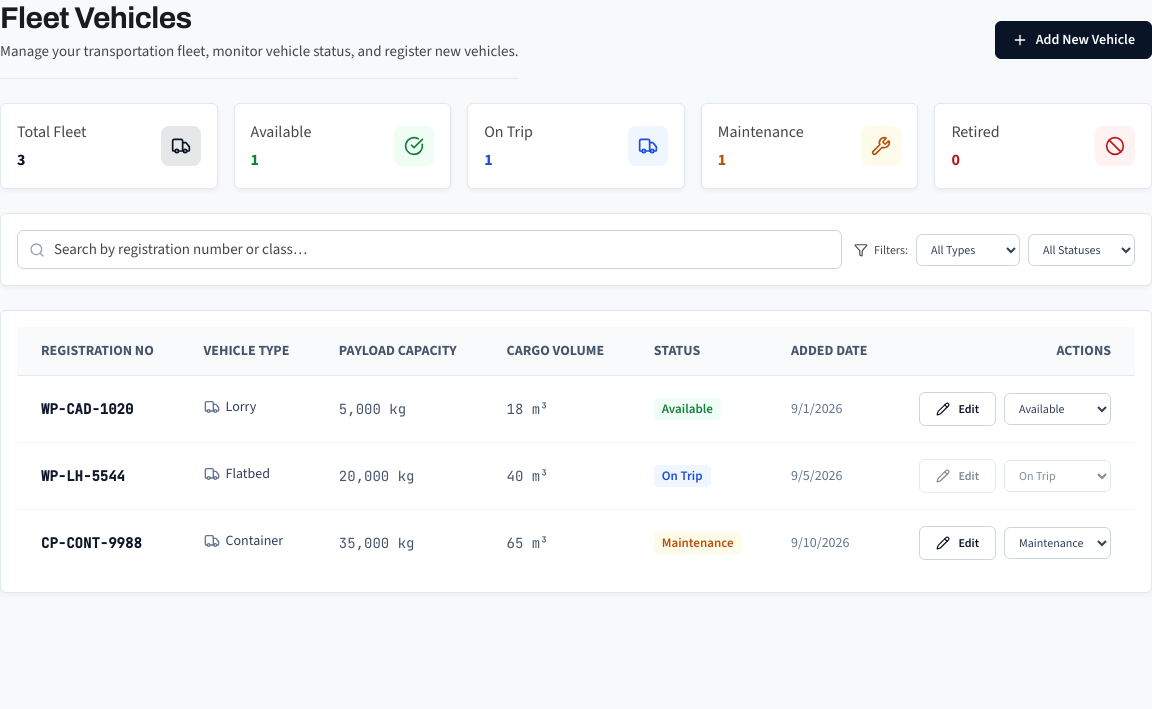
Scenario: FleetVehiclesPage › displays top-level alert banner when backend throws non-validation error
Click the button "Add New Vehicle" at (1073, 40), box [995,20,1151,58]
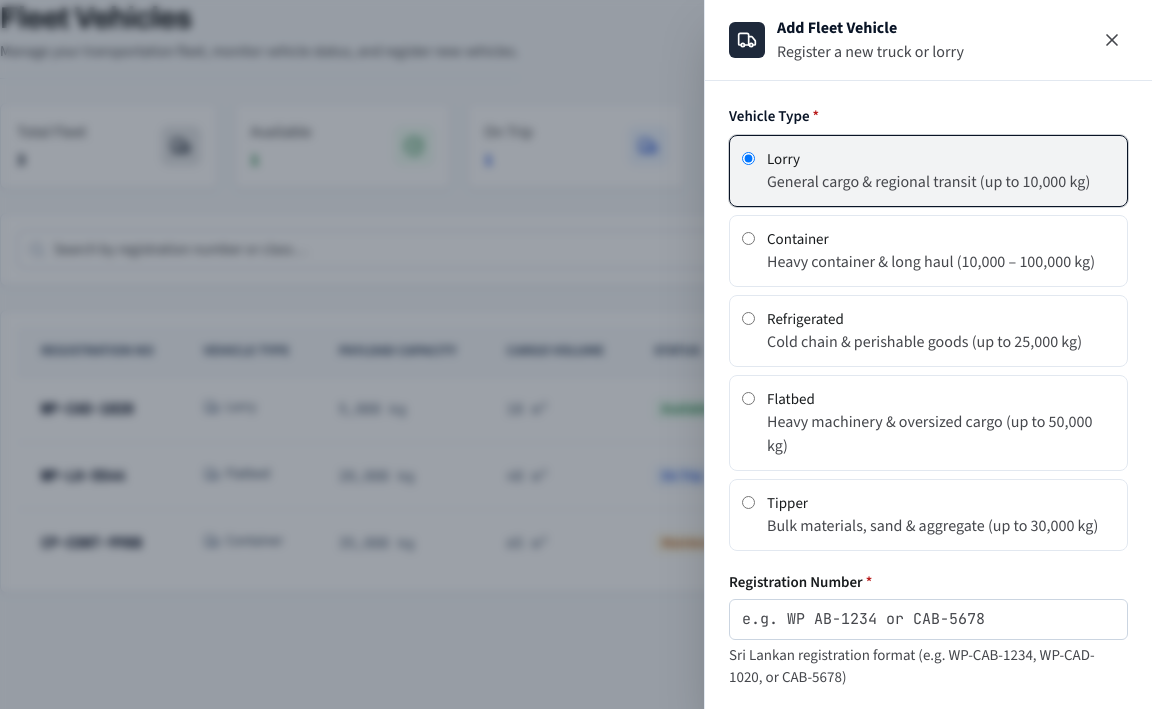
Type "WP-NEW-1122" into the field with placeholder "e.g. WP AB-1234 or CAB-5678" at (928, 619), box [729,599,1128,640]
(page scrolled)
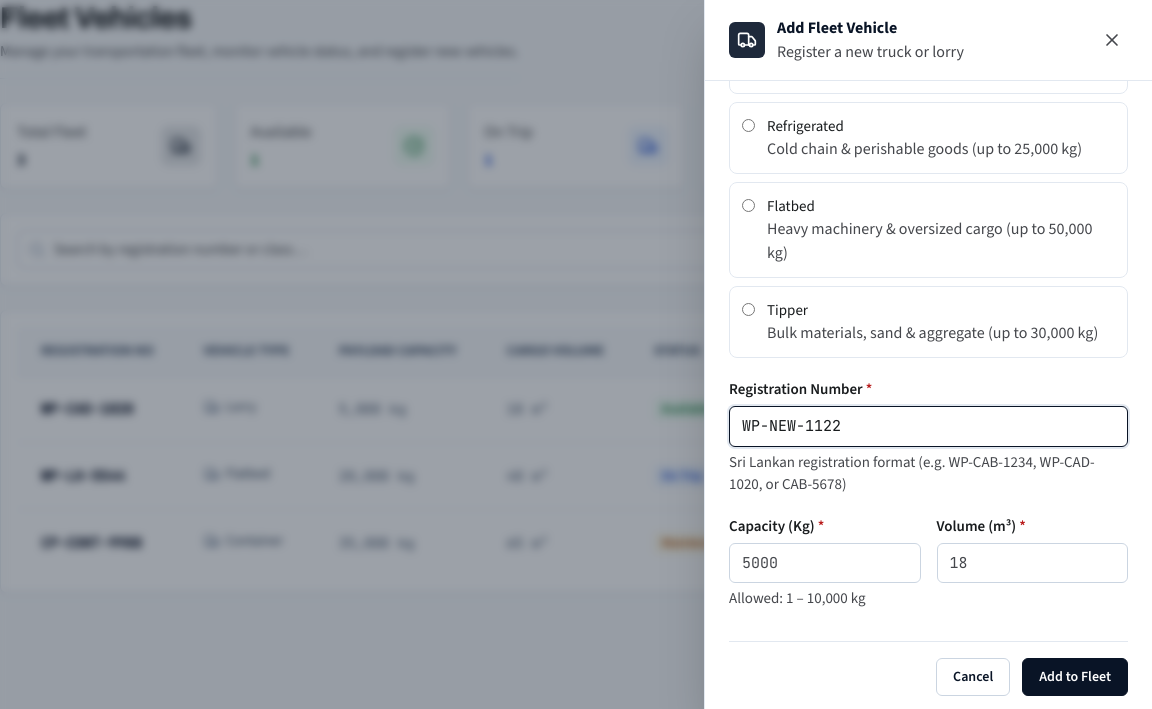
Type "2000" into the number field with placeholder "5000" at (825, 563), box [729,542,920,583]
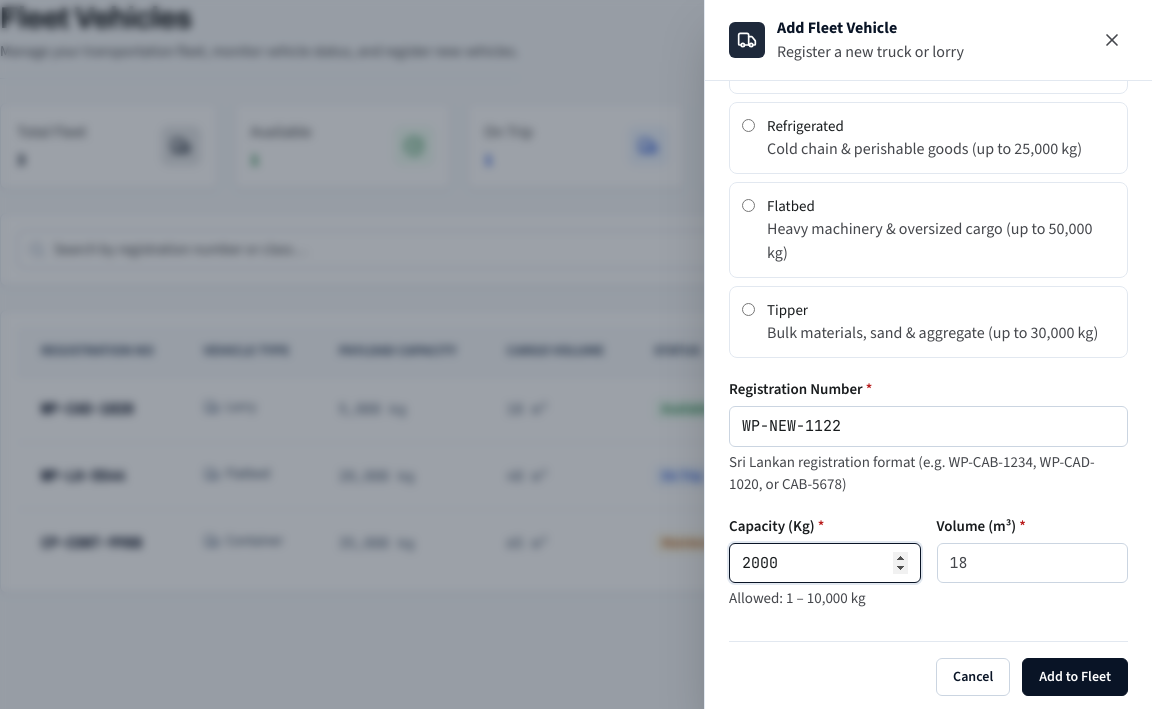
Type "12" into the number field with placeholder "18" at (1032, 563), box [936,542,1128,583]
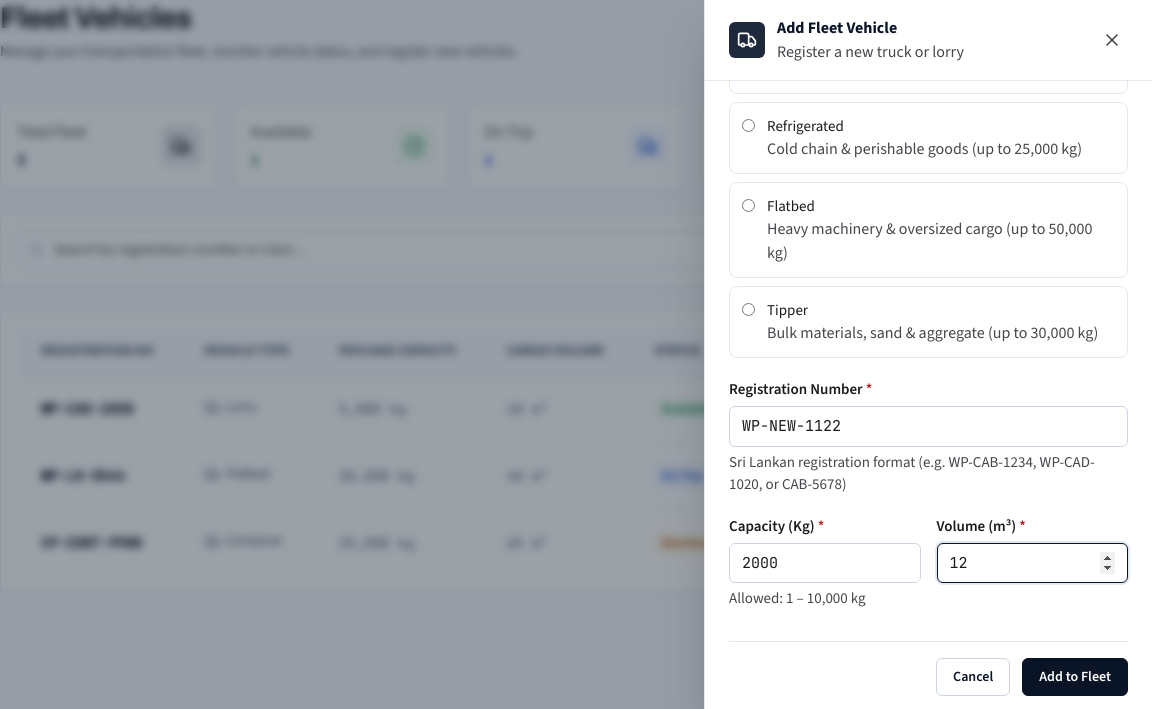
Click the button "Add to Fleet" at (1075, 677), box [1022,658,1128,696]
(page scrolled)
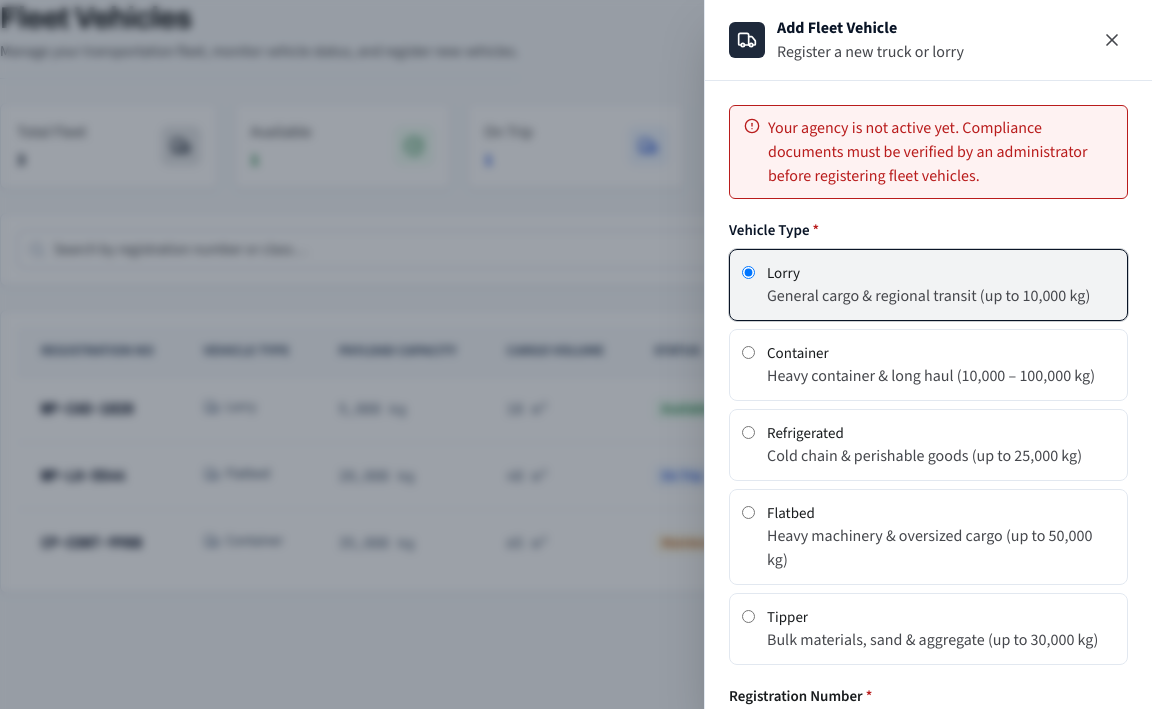
Expected: the text "compliance documents must be verified by an administrator" is shown, [768,117,1088,186]
